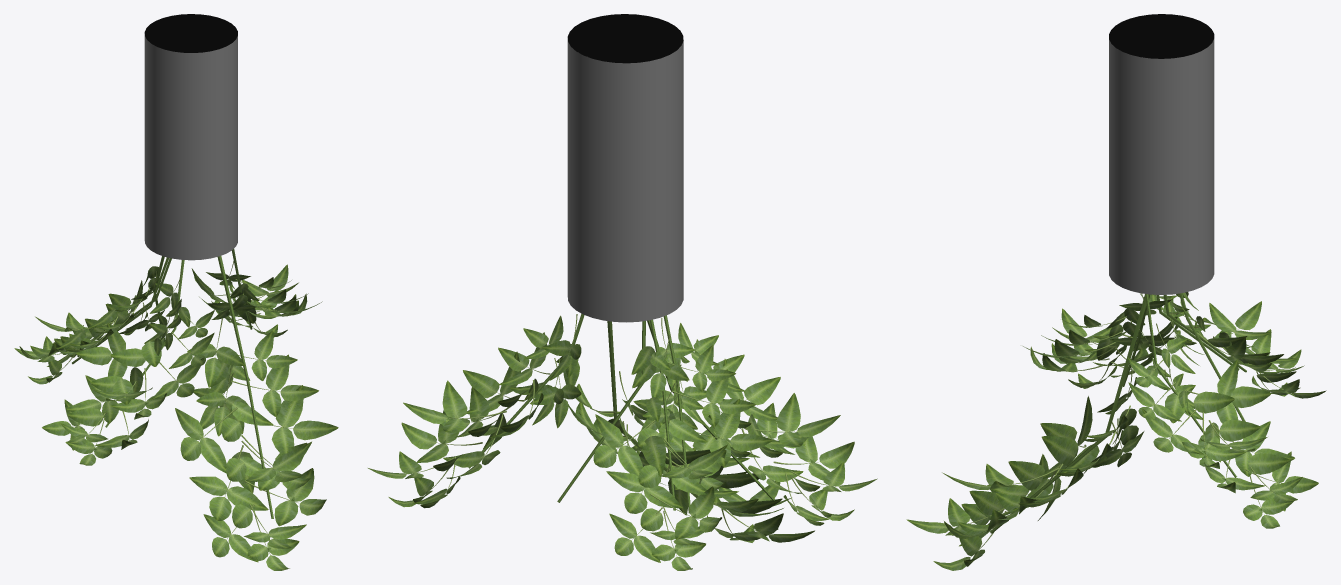
The model's file is VasoFlor.fbx.
3 renders of one model, left to right at view 1: azimuth 30°, elevation 25°; view 2: azimuth 150°, elevation 25°; view 3: azimuth 270°, elevation 25°, orthographic. The views are drawn at different scales.
Parts seen in each view (by area): view 1: group_.197, group_.196, group_ 3.078, group_.212, group_.211, group_ 5.055, group_ 2.120, group_ 3.071, group_ 2.118, group_ 4.059, group_ 7.037, group_ 2.119 (+22 smaller); view 2: group_.197, group_.196, group_ 3.081, group_ 3.071, group_ 3.074, group_.217, group_.201, group_.216, group_ 3.078, group_.206, group_ 5.057, group_.207 (+14 smaller); view 3: group_.197, group_.196, group_ 3.081, group_ 3.074, group_ 3.078, group_ 2.119, group_.207, group_.209, group_ 2.116, group_.205, group_ 3.071, group_ 3.076 (+17 smaller).
Boxes of the visible parts, x1,y1,x2,y2 form: group_.197: (144,34,237,260); group_.196: (144,14,237,52); group_ 3.078: (189,440,311,520); group_.212: (271,385,338,455); group_.211: (244,468,326,526); group_ 5.055: (231,354,318,416); group_ 2.120: (175,407,237,473); group_ 3.071: (67,375,152,423); group_ 2.118: (203,504,258,562); group_ 4.059: (238,330,297,380); group_ 7.037: (187,318,245,387); group_ 2.119: (217,256,273,518); group_.197: (567,27,683,322); group_.196: (567,14,683,63); group_ 3.081: (606,444,727,513); group_ 3.071: (741,393,840,493); group_ 3.074: (403,380,506,478); group_.217: (697,398,772,466); group_.201: (773,436,854,482); group_.216: (650,486,721,539); group_ 3.078: (658,422,783,516); group_.206: (401,410,482,462); group_ 5.057: (672,369,755,427); group_.207: (463,351,524,414); group_.197: (1109,39,1214,294); group_.196: (1109,14,1214,58); group_ 3.081: (1209,301,1295,373); group_ 3.074: (1200,420,1294,476); group_ 3.078: (942,454,1058,515); group_ 2.119: (990,294,1149,533); group_.207: (1141,408,1203,454); group_.209: (906,498,1004,535); group_ 2.116: (1186,359,1238,423); group_.205: (1243,472,1293,528); group_ 3.071: (1052,308,1163,366); group_ 3.076: (1182,412,1246,468).
Size of the model in its own units: 0.845 by 1.22 by 0.8715.
Materials: 5 (2 with a texture image).
